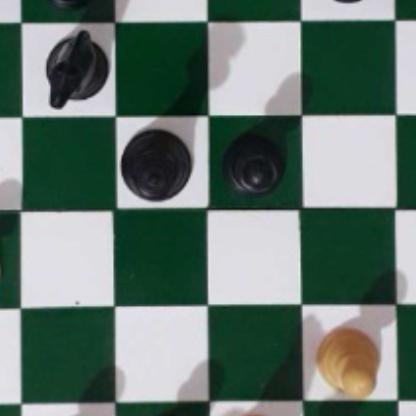black-knight: (41, 27, 106, 104)
black-pawn: (224, 129, 287, 196), (37, 0, 98, 5), (314, 0, 379, 1), (0, 0, 3, 3)
black-queen: (117, 125, 190, 200)
white-knight: (220, 411, 293, 416)
white-pawn: (312, 322, 379, 397), (0, 232, 3, 304), (131, 415, 196, 416), (407, 409, 416, 416)
